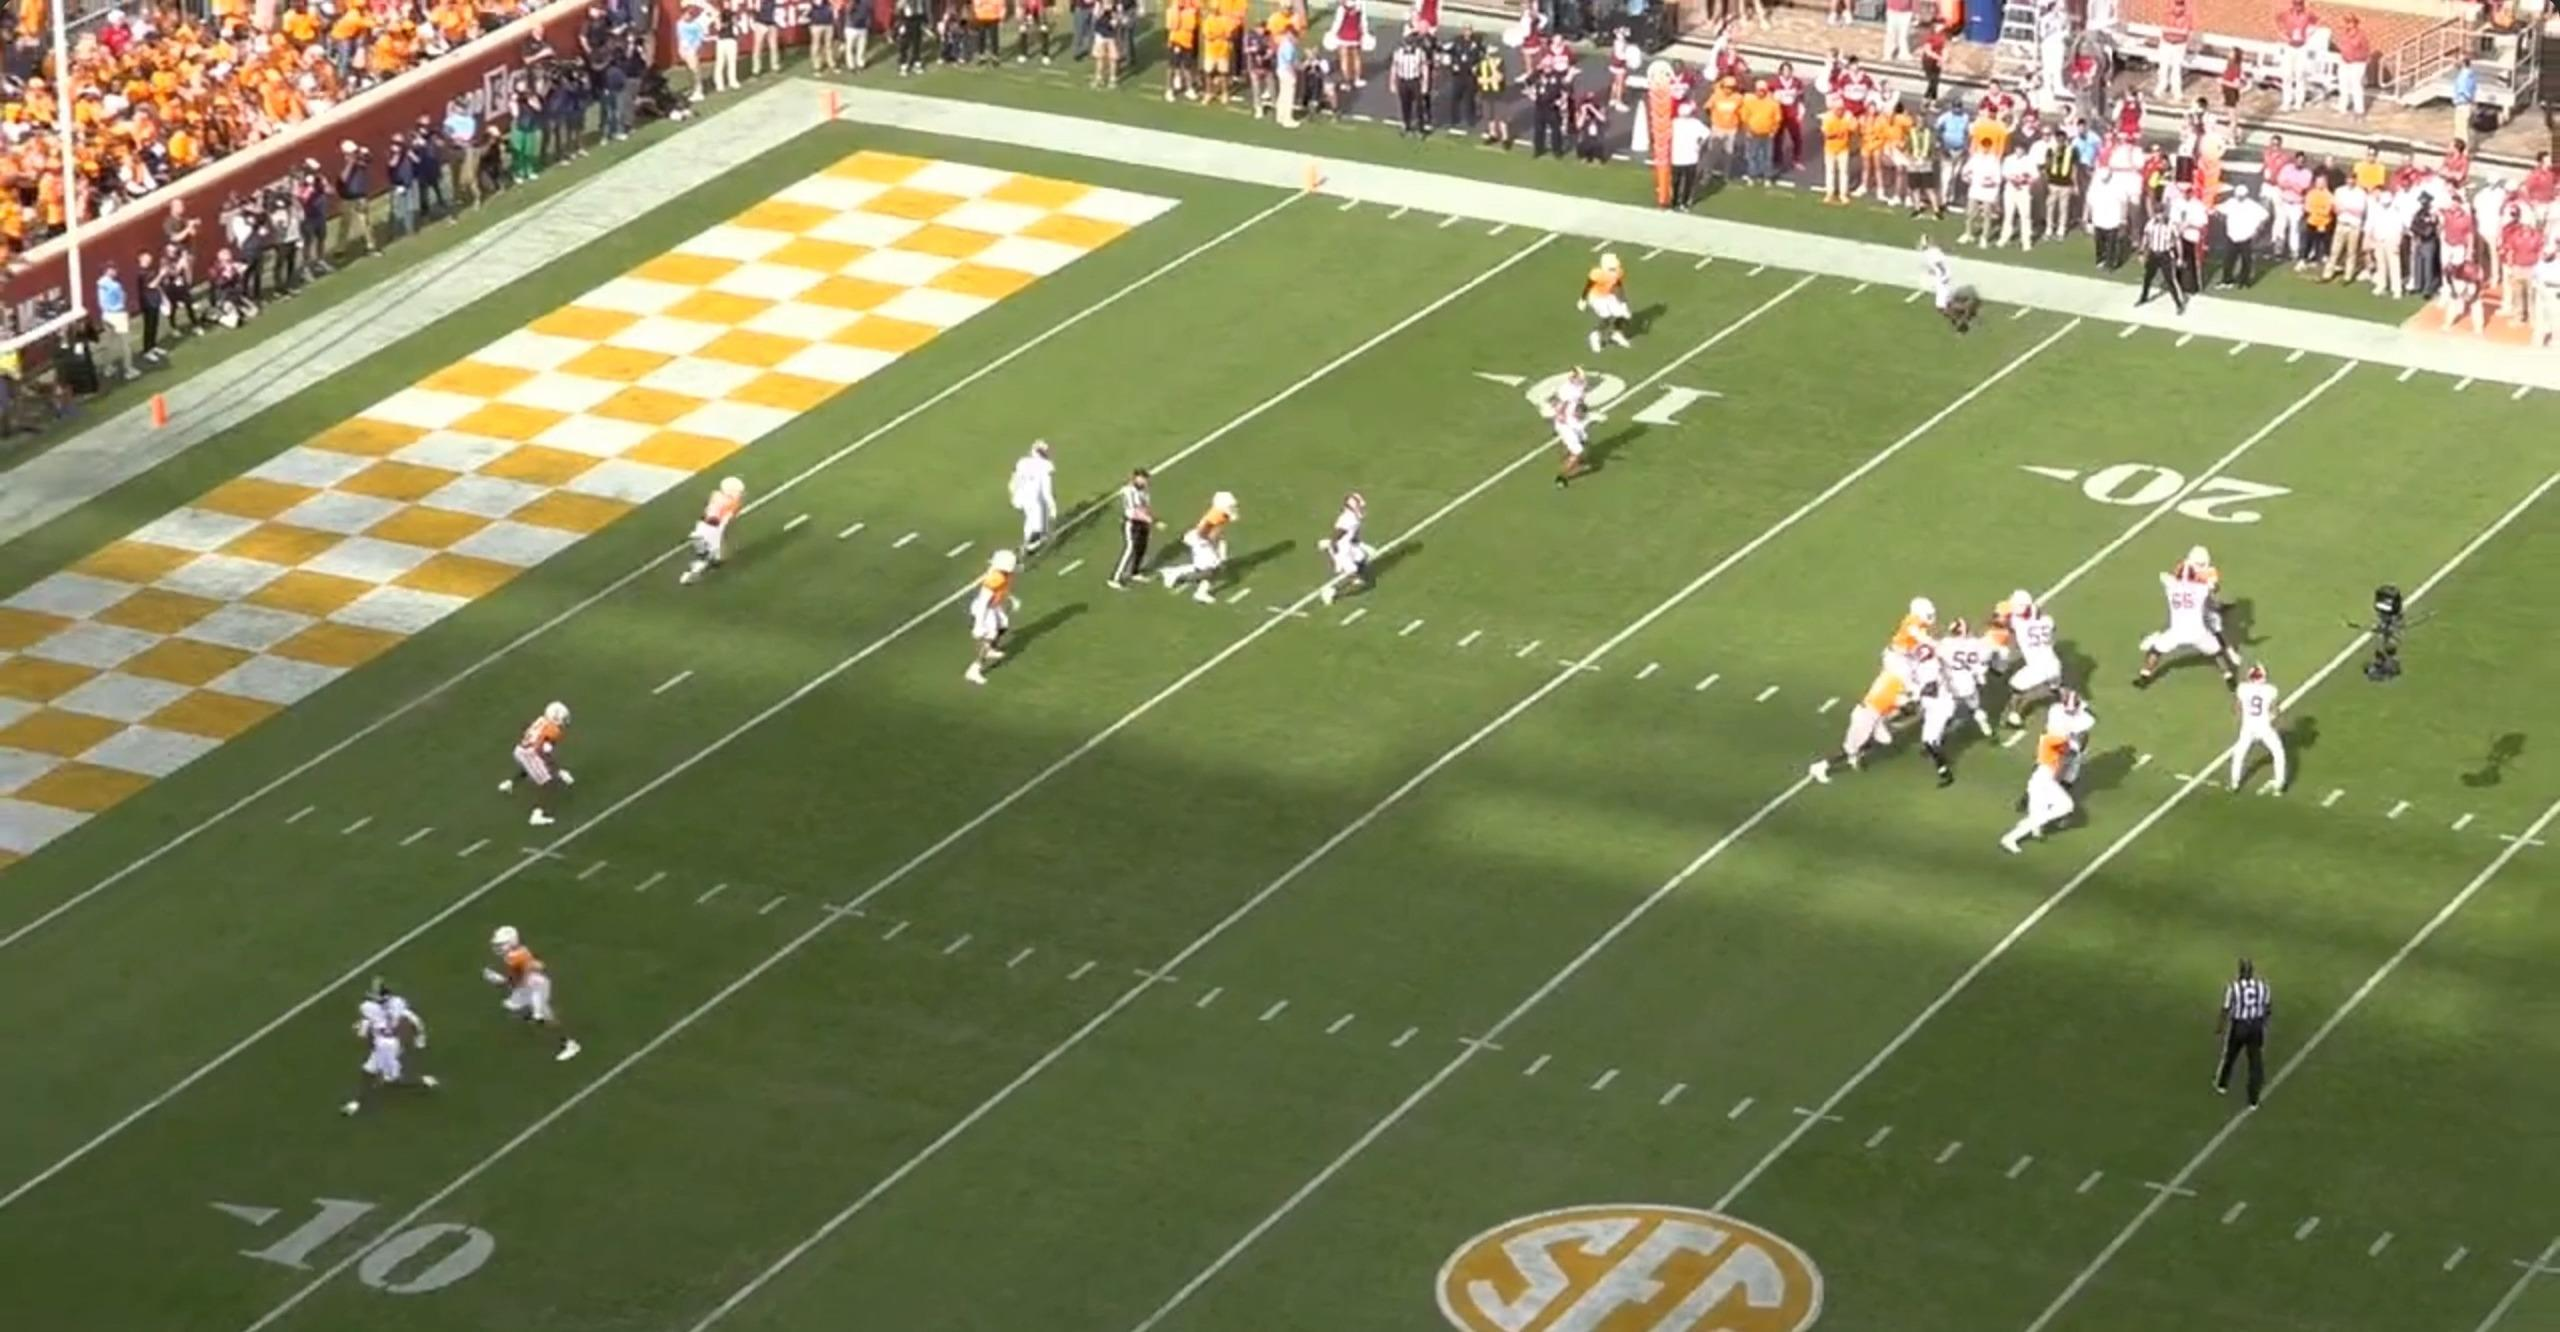defense: (472, 925, 579, 1074), (1996, 710, 2100, 858), (2134, 539, 2250, 668), (1824, 644, 1915, 780), (494, 698, 577, 829), (1157, 492, 1236, 611), (969, 554, 1031, 692), (677, 474, 743, 590), (1570, 245, 1635, 353), (1896, 592, 1952, 669), (1987, 587, 2039, 653)
oline: (2132, 566, 2239, 692), (2008, 688, 2105, 817), (1885, 644, 1955, 791), (1929, 613, 2002, 744), (1998, 607, 2067, 737)
qb: (2218, 660, 2286, 790)
ref: (2203, 952, 2276, 1109), (2123, 199, 2184, 314), (1114, 467, 1165, 587)
skill: (332, 982, 438, 1128), (1538, 368, 1604, 490), (1313, 486, 1376, 604), (1913, 239, 1977, 339), (1002, 433, 1054, 556)
